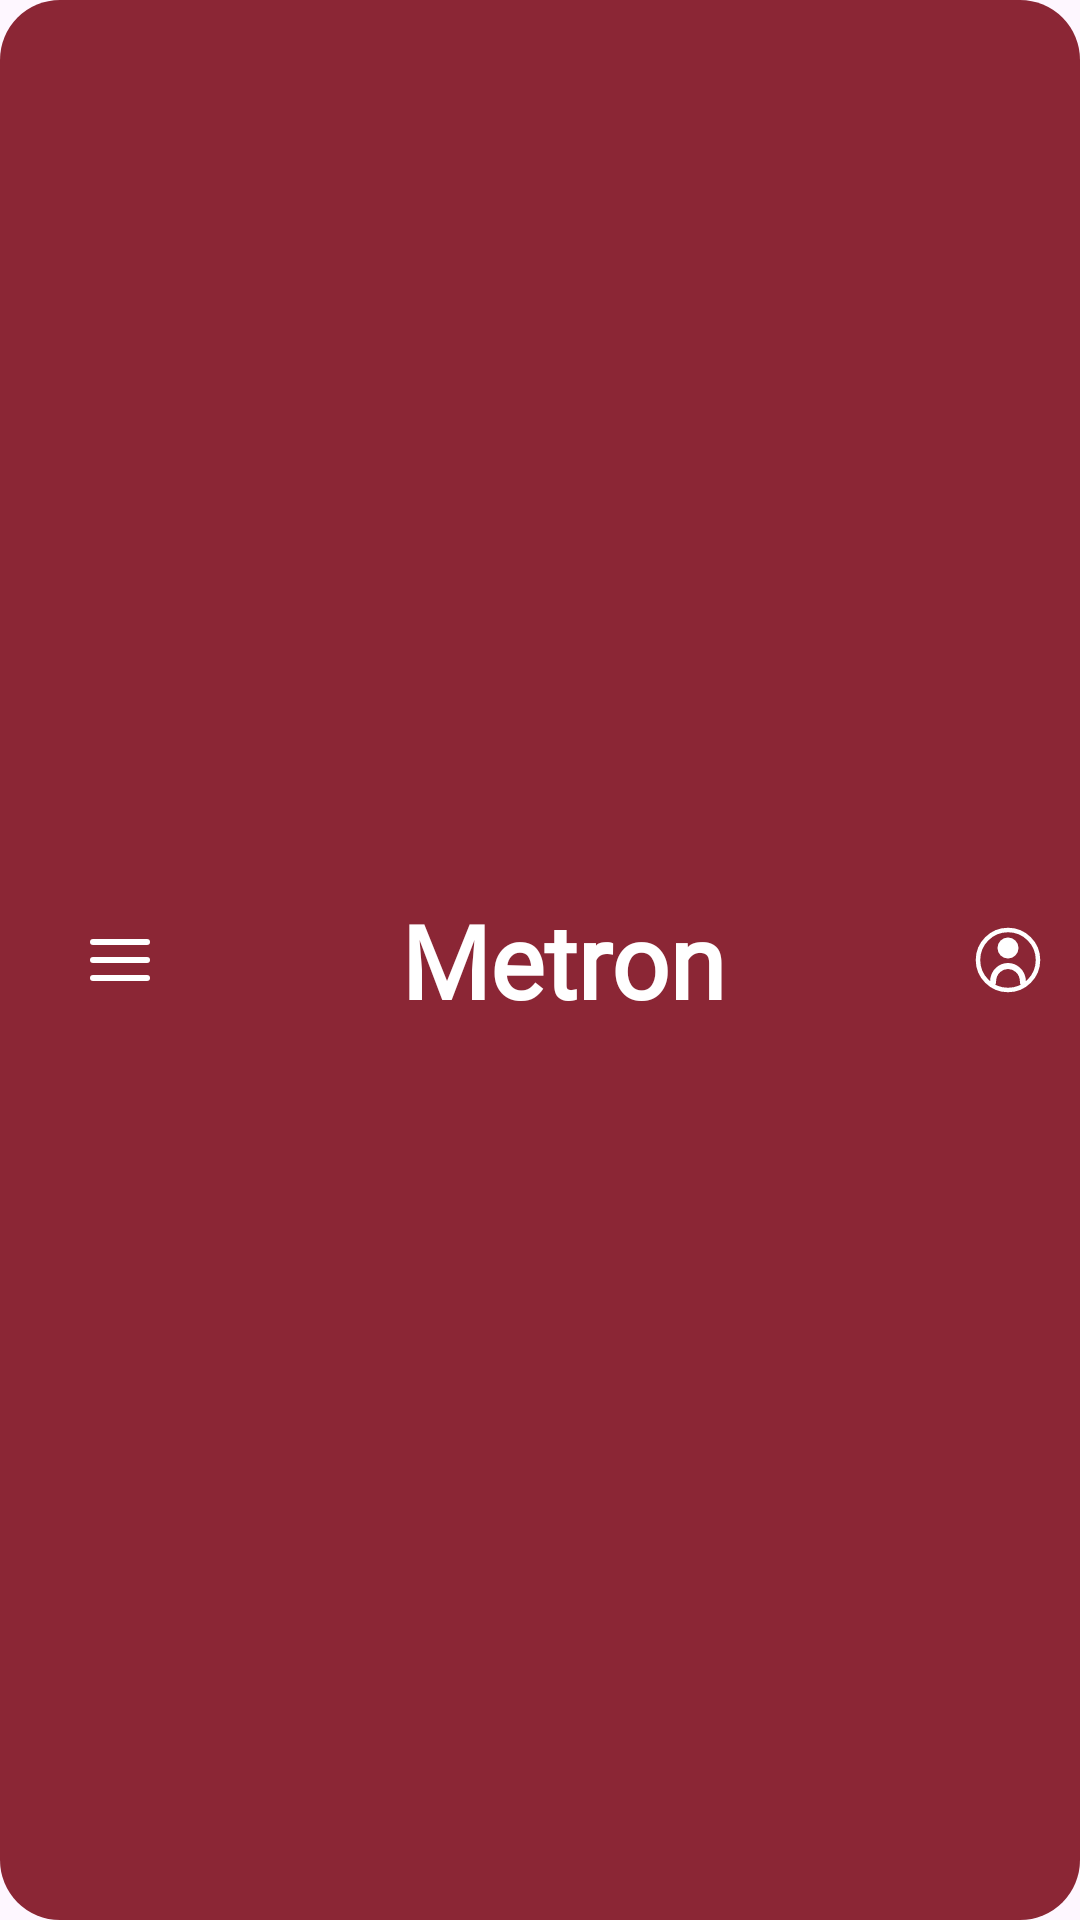

Icons on this 1080x1920 Android screen, each with its box as (x1, y1, x2, y2):
hamburguer menu: (90, 939, 150, 981)
perfil: (975, 927, 1041, 993)
